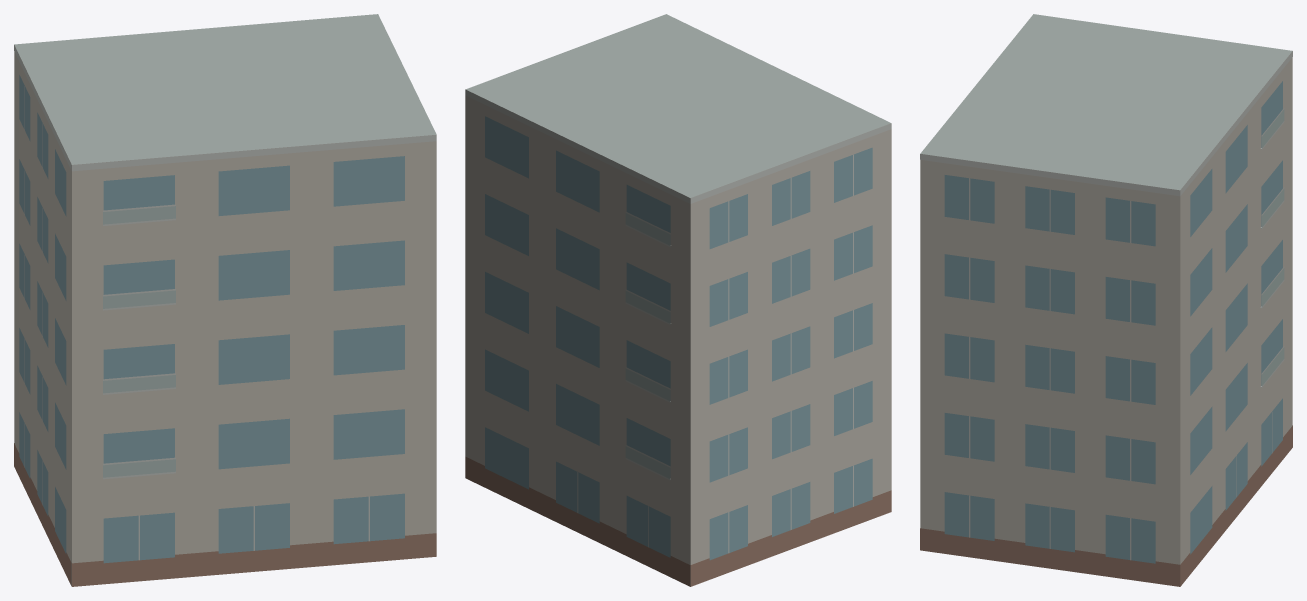
File: survey-upis-32598769.glb
3 renders of one model, left to right at view 1: azimuth 30°, elevation 25°; view 2: azimuth 150°, elevation 25°; view 3: azimuth 270°, elevation 25°, orthographic. The views are drawn at different scales.
Parts seen in each view (by area): view 1: survey-upis-32598769.tmp; view 2: survey-upis-32598769.tmp; view 3: survey-upis-32598769.tmp.
Part boxes in pixels (x1=…): survey-upis-32598769.tmp: x1=14, y1=14, x2=436, y2=586; survey-upis-32598769.tmp: x1=465, y1=14, x2=891, y2=586; survey-upis-32598769.tmp: x1=920, y1=14, x2=1292, y2=586.
Size of the model in its own units: 15.26 by 16 by 13.63.
